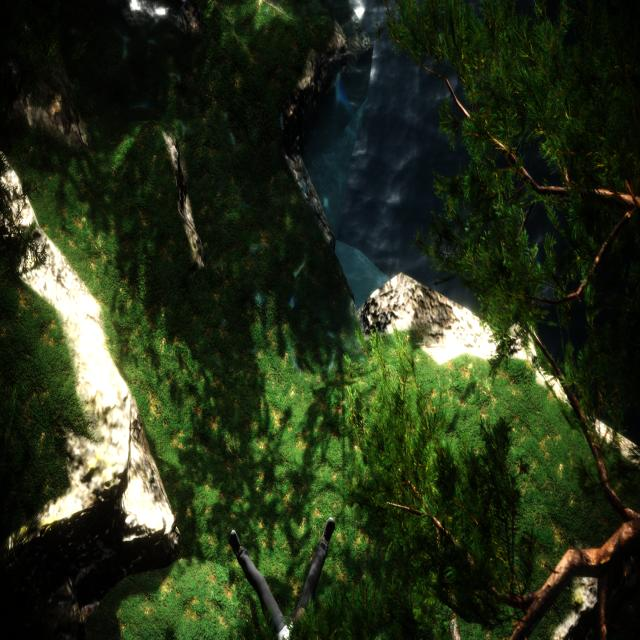Human: (226, 513, 338, 640)
